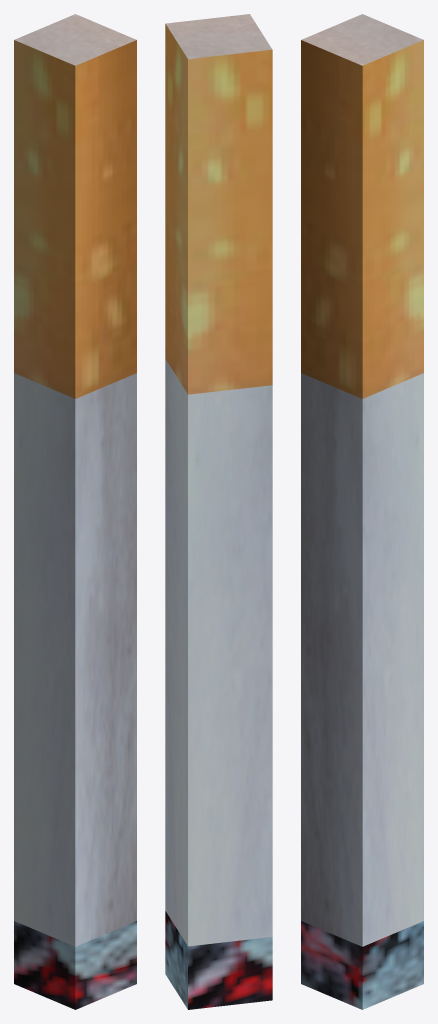
File: CigaretteSmoked.obj
3 renders of one model, left to right at view 1: azimuth 90°, elevation 25°; view 2: azimuth 150°, elevation 25°; view 3: azimuth 270°, elevation 25°, orthographic.
Parts seen in each view (by area): view 1: CigaretteSmoked; view 2: CigaretteSmoked; view 3: CigaretteSmoked.
Boxes of the visible parts, <box> form: CigaretteSmoked: <box>14,14,136,1009</box>; CigaretteSmoked: <box>165,14,272,1009</box>; CigaretteSmoked: <box>301,14,423,1009</box>.
Bounding box in the file's own units: 0.1047 × 0.8886 × 0.1047.
